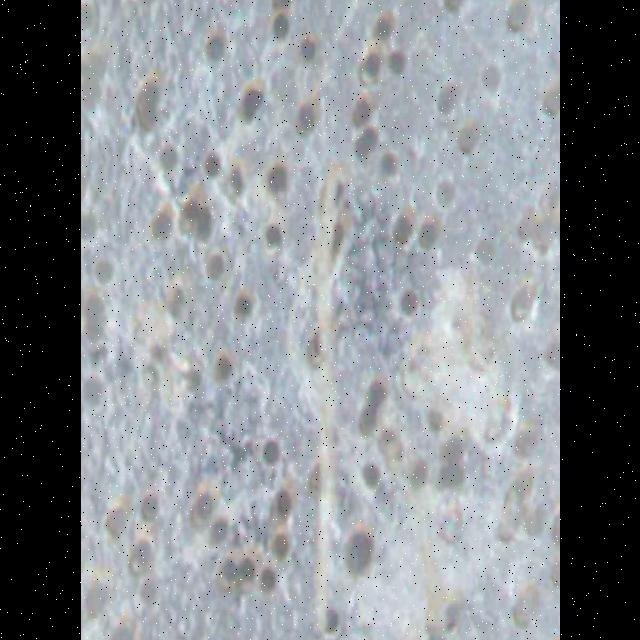Fibre: (302, 150, 358, 640)
